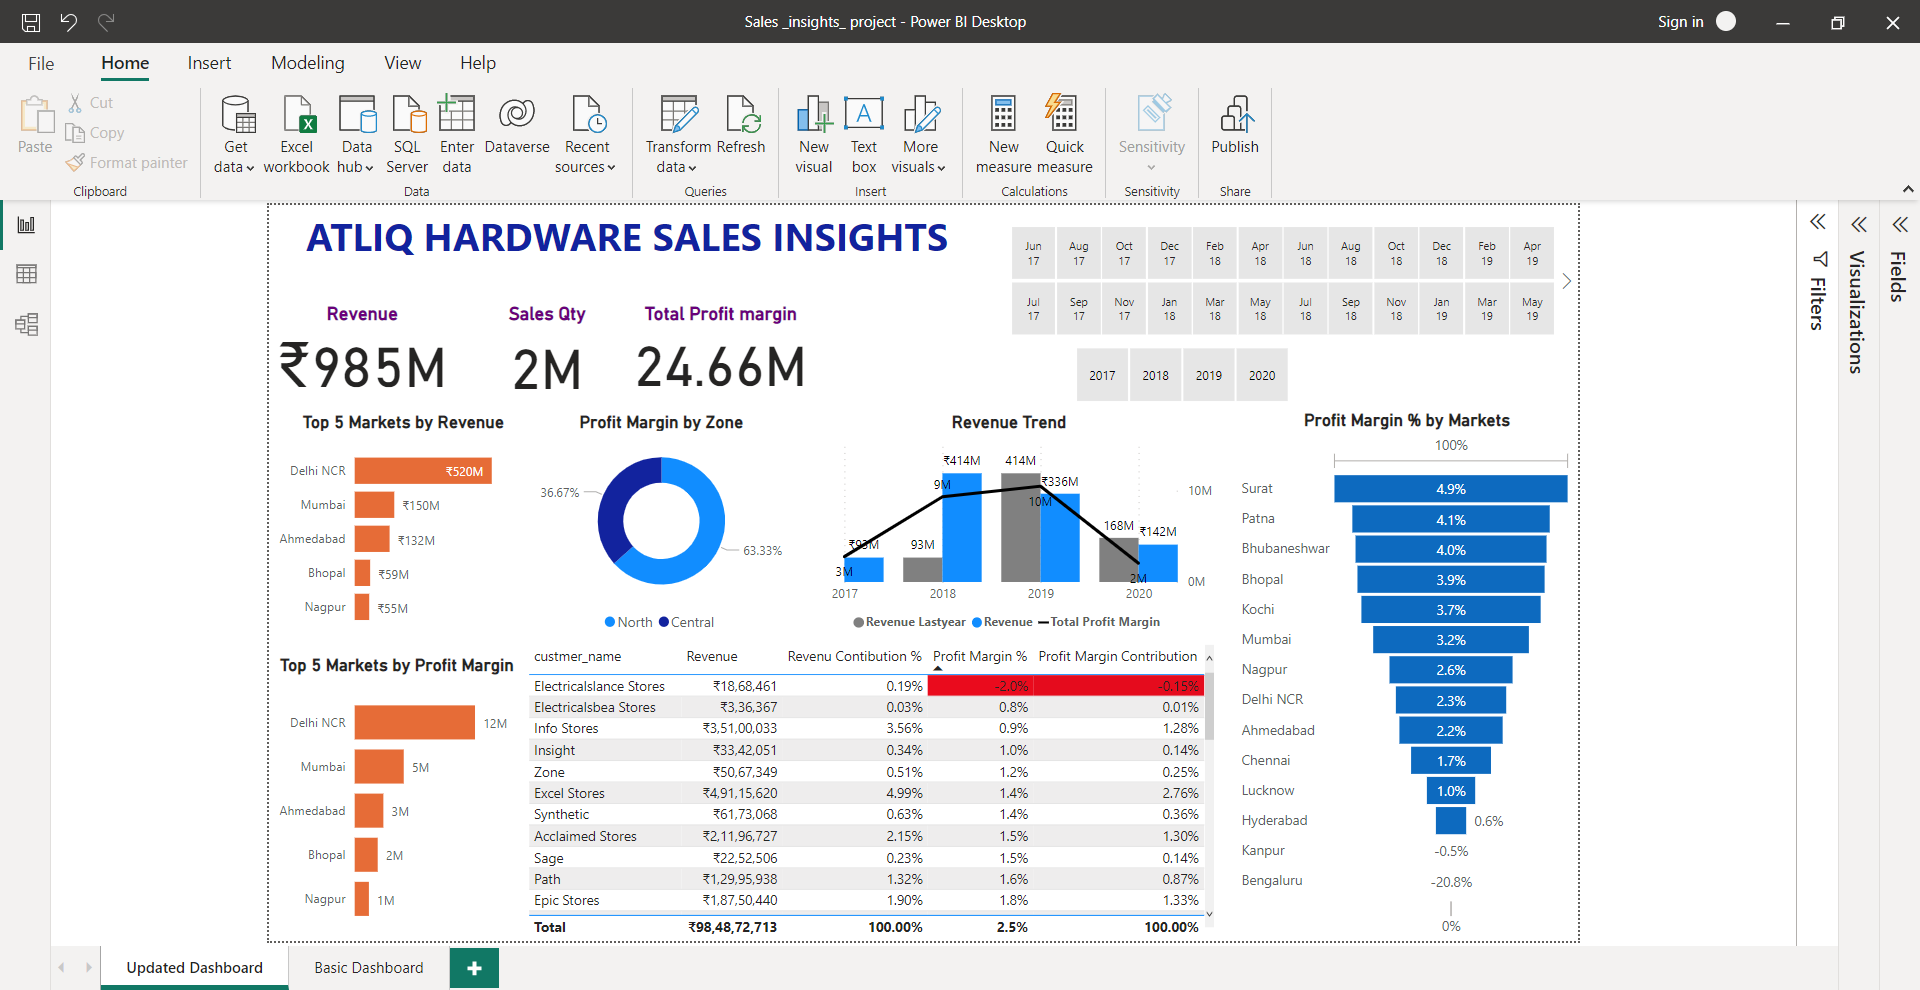

Layout of this report page (visuals, bound fields, positions):
{"tool":"powerbi","page":{"name":"Updated Dashboard","canvas":[1280,720],"ordinal":0},"visuals":[{"type":"slicer","fields":{"Values":["sales date.cy_date"]},"box":[700,0,580,133.8],"z":0},{"type":"slicer","fields":{"Values":["sales date.year"]},"box":[763.8,133.8,256.2,65],"z":1000},{"type":"textbox","box":[0,0,700.4,67.2],"z":2000},{"type":"funnel","title":"Profit Margin % by Markets","fields":{"Category":["sales markets.markets_name"],"Y":["Base Masures.Profit Margin %"]},"box":[946.2,200,333.8,518.8],"z":3000},{"type":"tableEx","title":"Profit Margin % by Markets","fields":{"Values":["sales customers.custmer_name","Base Masures.Revenue","Base Measures.Revenu Contibution %","Base Measures.Profit Margin %","Base Measures.Profit Margin Contribution"]},"box":[248.8,425,681.2,295],"z":4000},{"type":"card","title":"Revenue","fields":{"Values":["Base Measures.Revenue"]},"box":[0,95,182.5,91.2],"z":5000},{"type":"card","title":"Sales Qty","fields":{"Values":["Base Measures.Sales Qty"]},"box":[182.5,95,180,95],"z":6000},{"type":"card","title":"Total Profit margin","fields":{"Values":["Base Measures.Total Profit Margin"]},"box":[339.8,95.3,204.1,90.5],"z":7000},{"type":"lineClusteredColumnComboChart","title":"Revenue Trend","fields":{"Y":["Base Measures.Revenue LY","Base Measures.Revenue"],"Y2":["Base Measures.Total Profit Margin"],"Category":["sales date.cy_date.Variation.Date Hierarchy.Year"]},"box":[519.5,201.7,408.3,224.9],"z":8000},{"type":"clusteredBarChart","title":"Top 5 Markets by Revenue","fields":{"Y":["Base Measures.Revenue"],"Category":["sales markets.markets_name"]},"box":[0,201.7,262.8,223.7],"z":9000},{"type":"donutChart","title":"Profit Margin by Zone","fields":{"Category":["sales markets.zone"],"Y":["Base Measures.Total Profit Margin"]},"box":[248.1,201.7,271.4,224.9],"z":10000},{"type":"clusteredBarChart","title":"Top 5 Markets by Profit Margin","fields":{"Category":["sales markets.markets_name"],"Y":["Base Measures.Total Profit Margin"]},"box":[0,440,250,278.8],"z":11000}]}

Visuals, with their boxes on the page's 1280x720 design canvas (x1, y1, x2, y2). These are canvas units, not pixel positions in the 1920x990 screenshot, which may show the page scaled, cropped or inside an application window:
slicer - sales date.cy_date: bbox(700, 0, 1280, 134)
slicer - sales date.year: bbox(764, 134, 1020, 199)
textbox: bbox(0, 0, 700, 67)
"Profit Margin % by Markets" funnel: bbox(946, 200, 1280, 719)
"Profit Margin % by Markets" tableEx: bbox(249, 425, 930, 720)
"Revenue" card: bbox(0, 95, 182, 186)
"Sales Qty" card: bbox(182, 95, 362, 190)
"Total Profit margin" card: bbox(340, 95, 544, 186)
"Revenue Trend" lineClusteredColumnComboChart: bbox(520, 202, 928, 427)
"Top 5 Markets by Revenue" clusteredBarChart: bbox(0, 202, 263, 425)
"Profit Margin by Zone" donutChart: bbox(248, 202, 520, 427)
"Top 5 Markets by Profit Margin" clusteredBarChart: bbox(0, 440, 250, 719)
